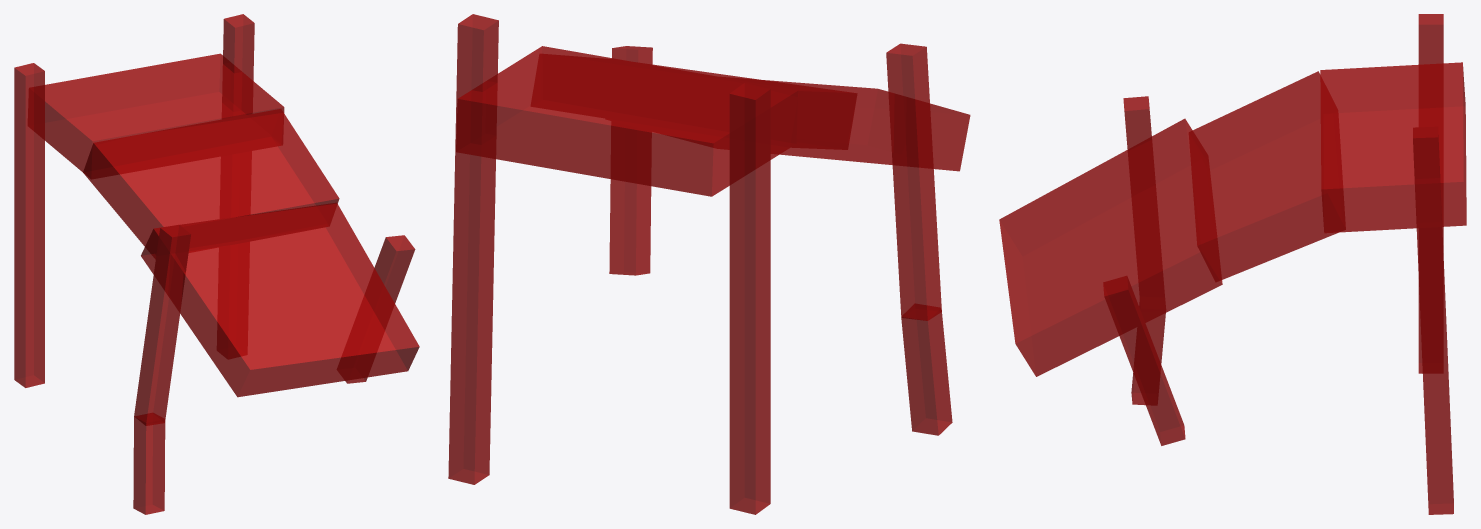
File: SM_Prop_Jetty_Broken_02_Collision.fbx
3 renders of one model, left to right at view 1: azimuth 30°, elevation 25°; view 2: azimuth 150°, elevation 25°; view 3: azimuth 270°, elevation 25°, orthographic. The views are drawn at different scales.
Parts seen in each view (by area): view 1: SM_Prop_Jetty_Broken_02_Collision; view 2: SM_Prop_Jetty_Broken_02_Collision; view 3: SM_Prop_Jetty_Broken_02_Collision.
Boxes of the visible parts, x1,y1,x2,y2 form: SM_Prop_Jetty_Broken_02_Collision: [14, 14, 419, 514]; SM_Prop_Jetty_Broken_02_Collision: [448, 14, 970, 514]; SM_Prop_Jetty_Broken_02_Collision: [999, 14, 1466, 514].
Bounding box in the file's own units: 206 × 264 × 289.
